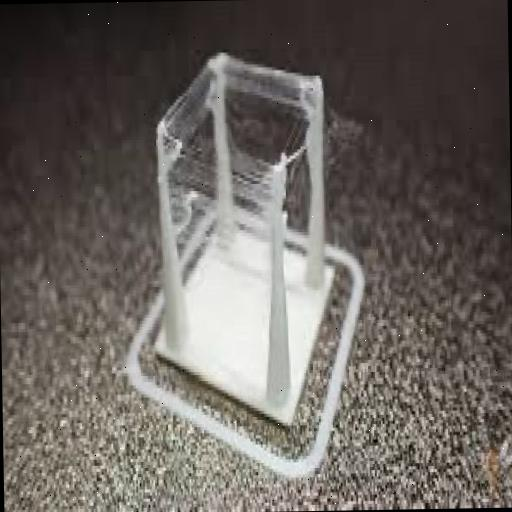stringing: (172, 128, 275, 292), (166, 120, 215, 269), (284, 116, 313, 279), (164, 63, 211, 162), (227, 60, 312, 111), (327, 106, 365, 174)
